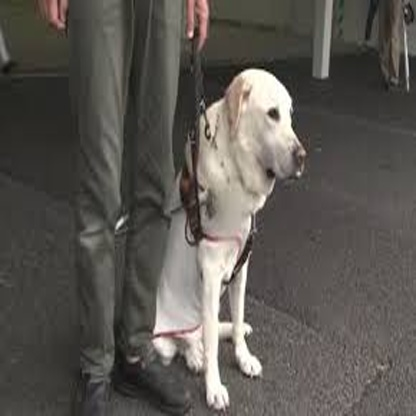guide-dog: (150, 68, 308, 400)
